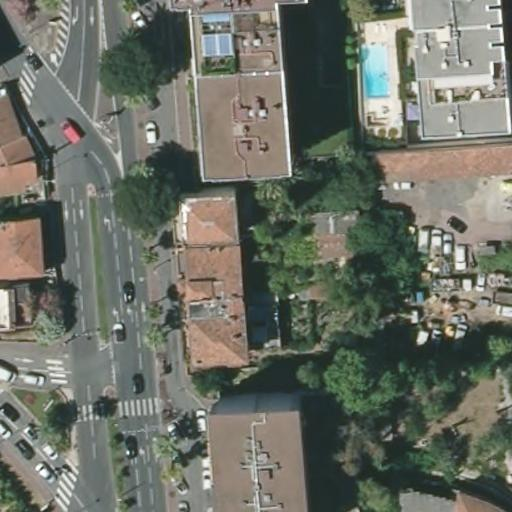pool: (356, 35, 391, 100)
